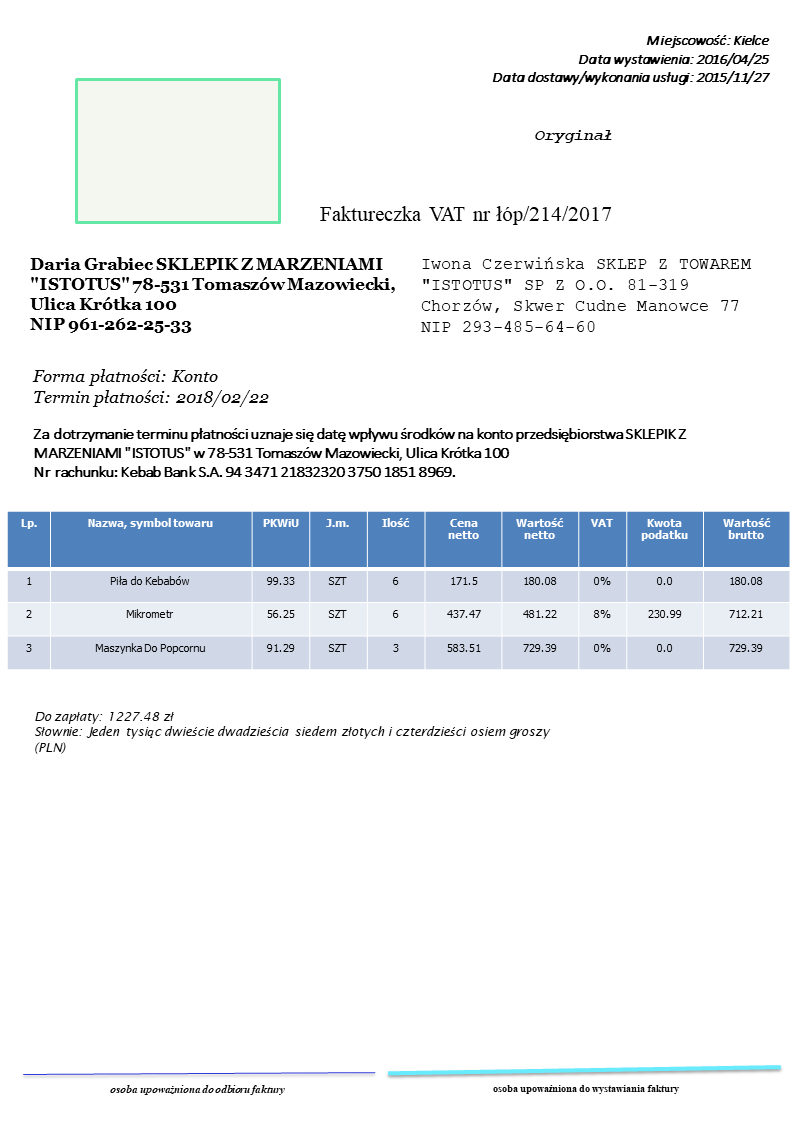Table: (6, 510, 790, 670)
TextBox: (31, 425, 690, 481), (28, 254, 399, 338), (418, 253, 755, 338), (32, 707, 551, 755), (487, 32, 772, 88), (29, 365, 271, 409), (318, 203, 611, 225), (490, 1081, 682, 1098), (107, 1080, 285, 1097), (534, 124, 613, 146)
